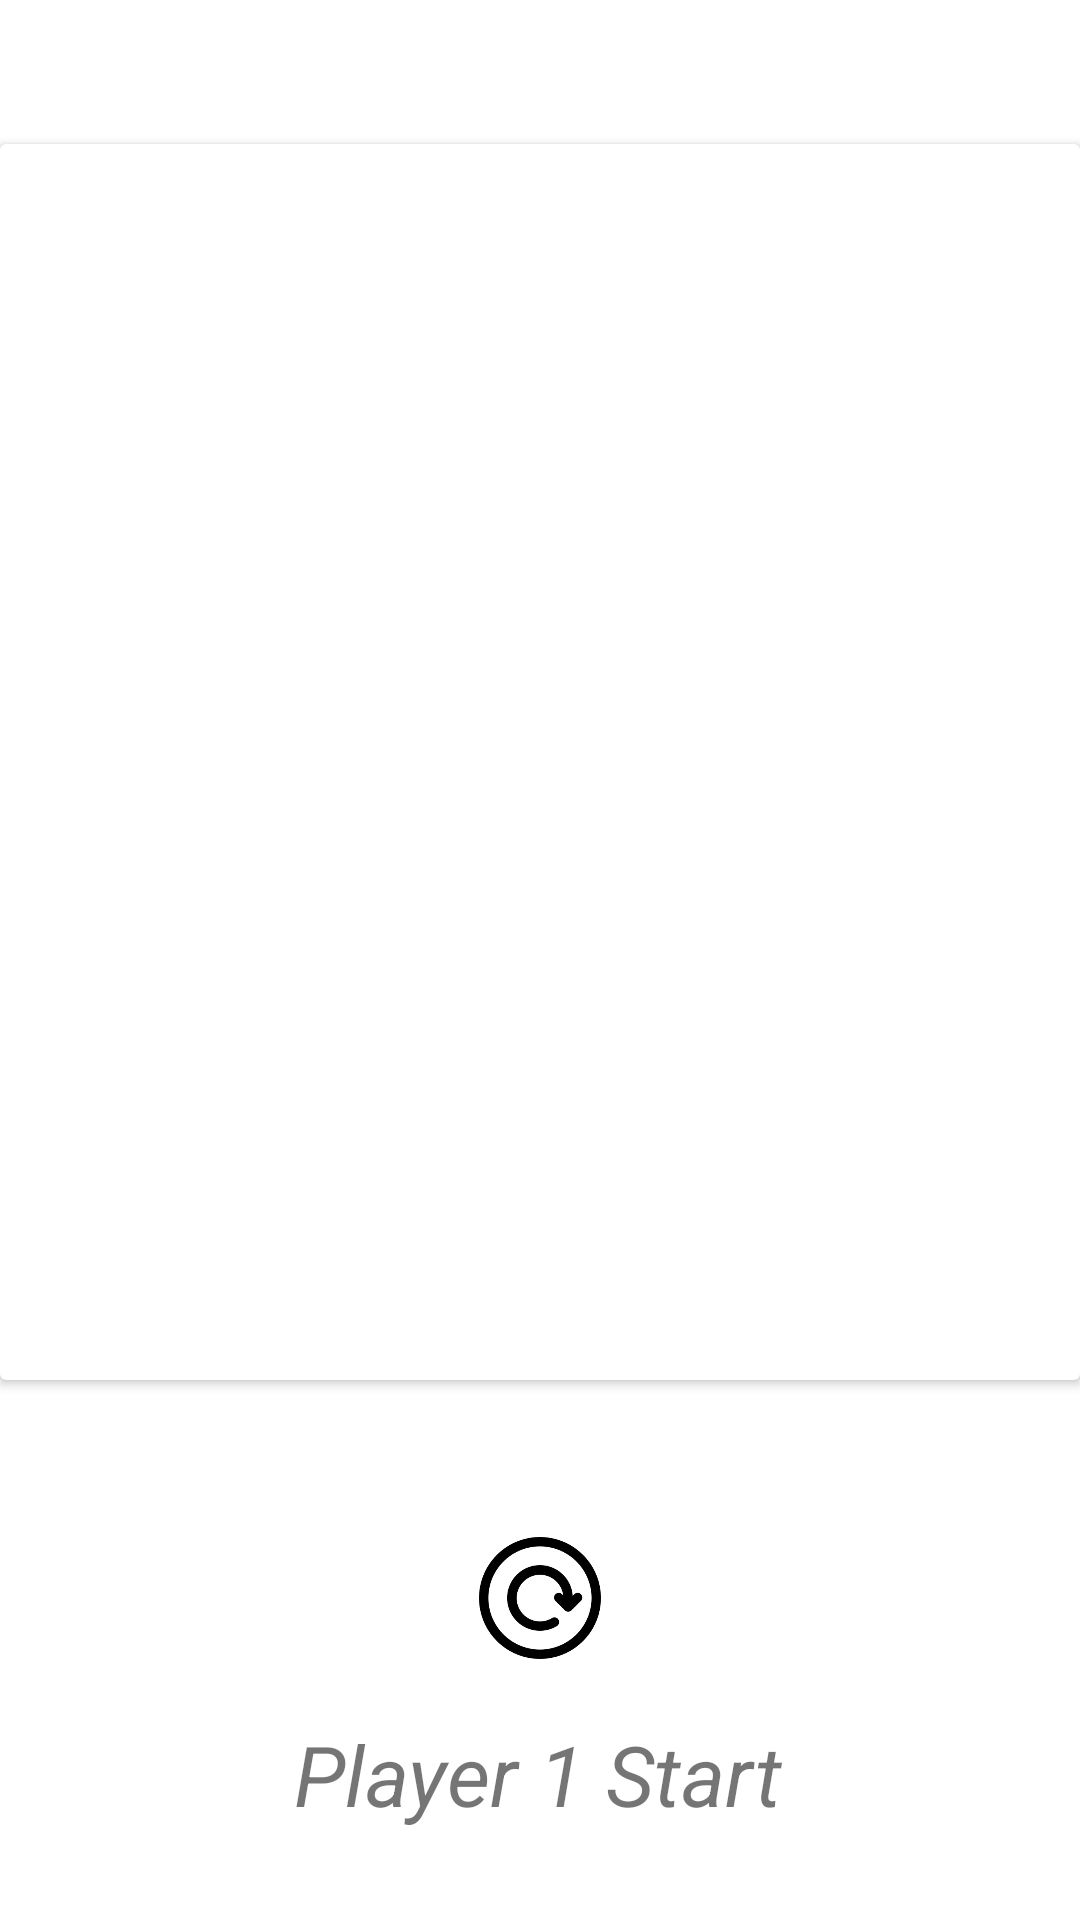

Screen size 1080w x 1920h. Icon name, then its center in pixels as (x=x, y=y):
reload: (x=540, y=1598)
